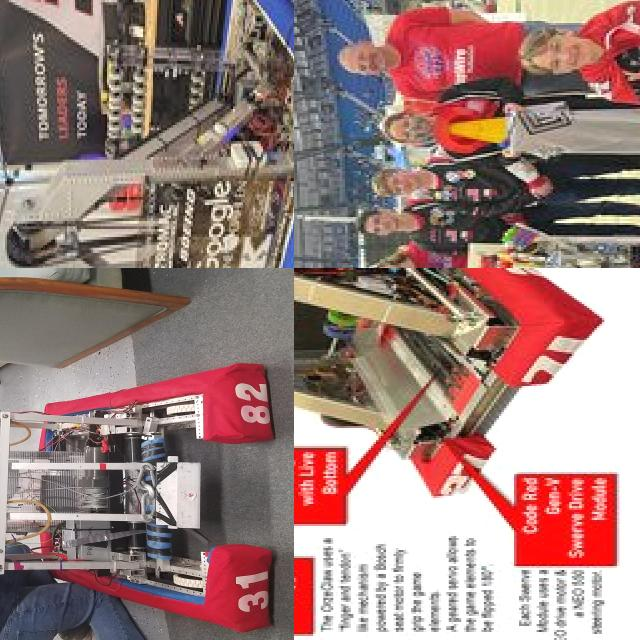FRC-Robots: (0, 319, 294, 640), (0, 0, 294, 268), (294, 268, 565, 493), (444, 172, 640, 268)
